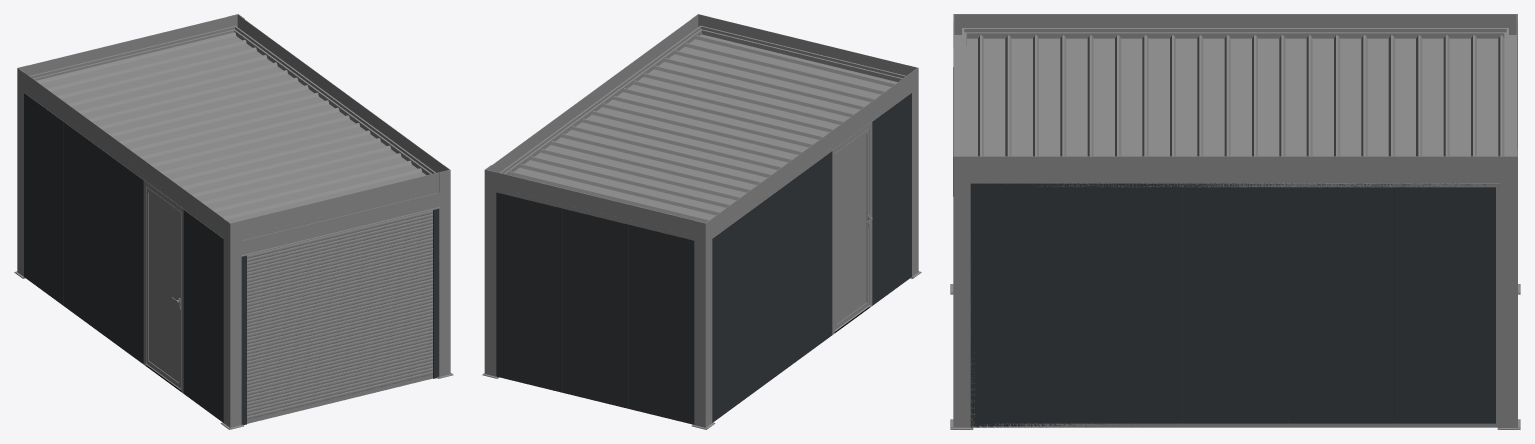
3 views of the same model, side by side, from view 1: azimuth 30°, elevation 25°; view 2: azimuth 150°, elevation 25°; view 3: azimuth 270°, elevation 25° (orthographic). The views are drawn at different scales.
Visible parts, largest first — view 1: Line002, Plane001, Rectangle002, Rectangle008, Rectangle003, Line008, Rectangle001, Rectangle006, Rectangle004, Rectangle007, Box002, Box001 (+49 smaller); view 2: Line002, Plane003, Plane001, Rectangle002, Rectangle008, Rectangle004, Rectangle005, Rectangle007, Rectangle006, Rectangle003; view 3: Plane002, Line002, Rectangle002, Rectangle009, Rectangle001, Rectangle005.
Boxes of the visible parts, x1,y1,x2,y2 form: Line002: (36,32,425,222); Plane001: (24,93,223,422); Rectangle002: (18,14,449,240); Rectangle008: (149,193,178,382); Rectangle003: (223,219,241,427); Line008: (241,192,439,256); Rectangle001: (439,165,450,376); Rectangle006: (143,180,183,393); Rectangle004: (17,65,27,276); Rectangle007: (146,187,181,388); Box002: (433,208,438,378); Box001: (241,255,246,424); Line002: (509,34,897,222); Plane003: (496,192,694,424); Plane001: (712,93,911,422); Rectangle002: (486,14,917,240); Rectangle008: (837,135,866,323); Rectangle004: (694,219,712,427); Rectangle005: (484,165,496,376); Rectangle007: (834,128,869,330); Rectangle006: (832,122,872,334); Rectangle003: (907,65,918,276); Plane002: (970,183,1498,427); Line002: (967,35,1504,156); Rectangle002: (953,14,1517,182); Rectangle009: (971,183,1500,427); Rectangle001: (953,149,970,427); Rectangle005: (1500,150,1517,427).
Bounding box in the file's own units: 3074 × 2663 × 5058.
Materials: 7 (2 with a texture image).
